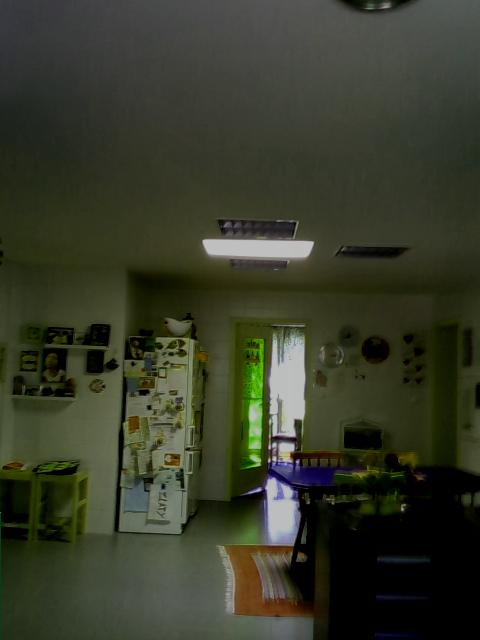semi_door: (225, 313, 313, 503)
